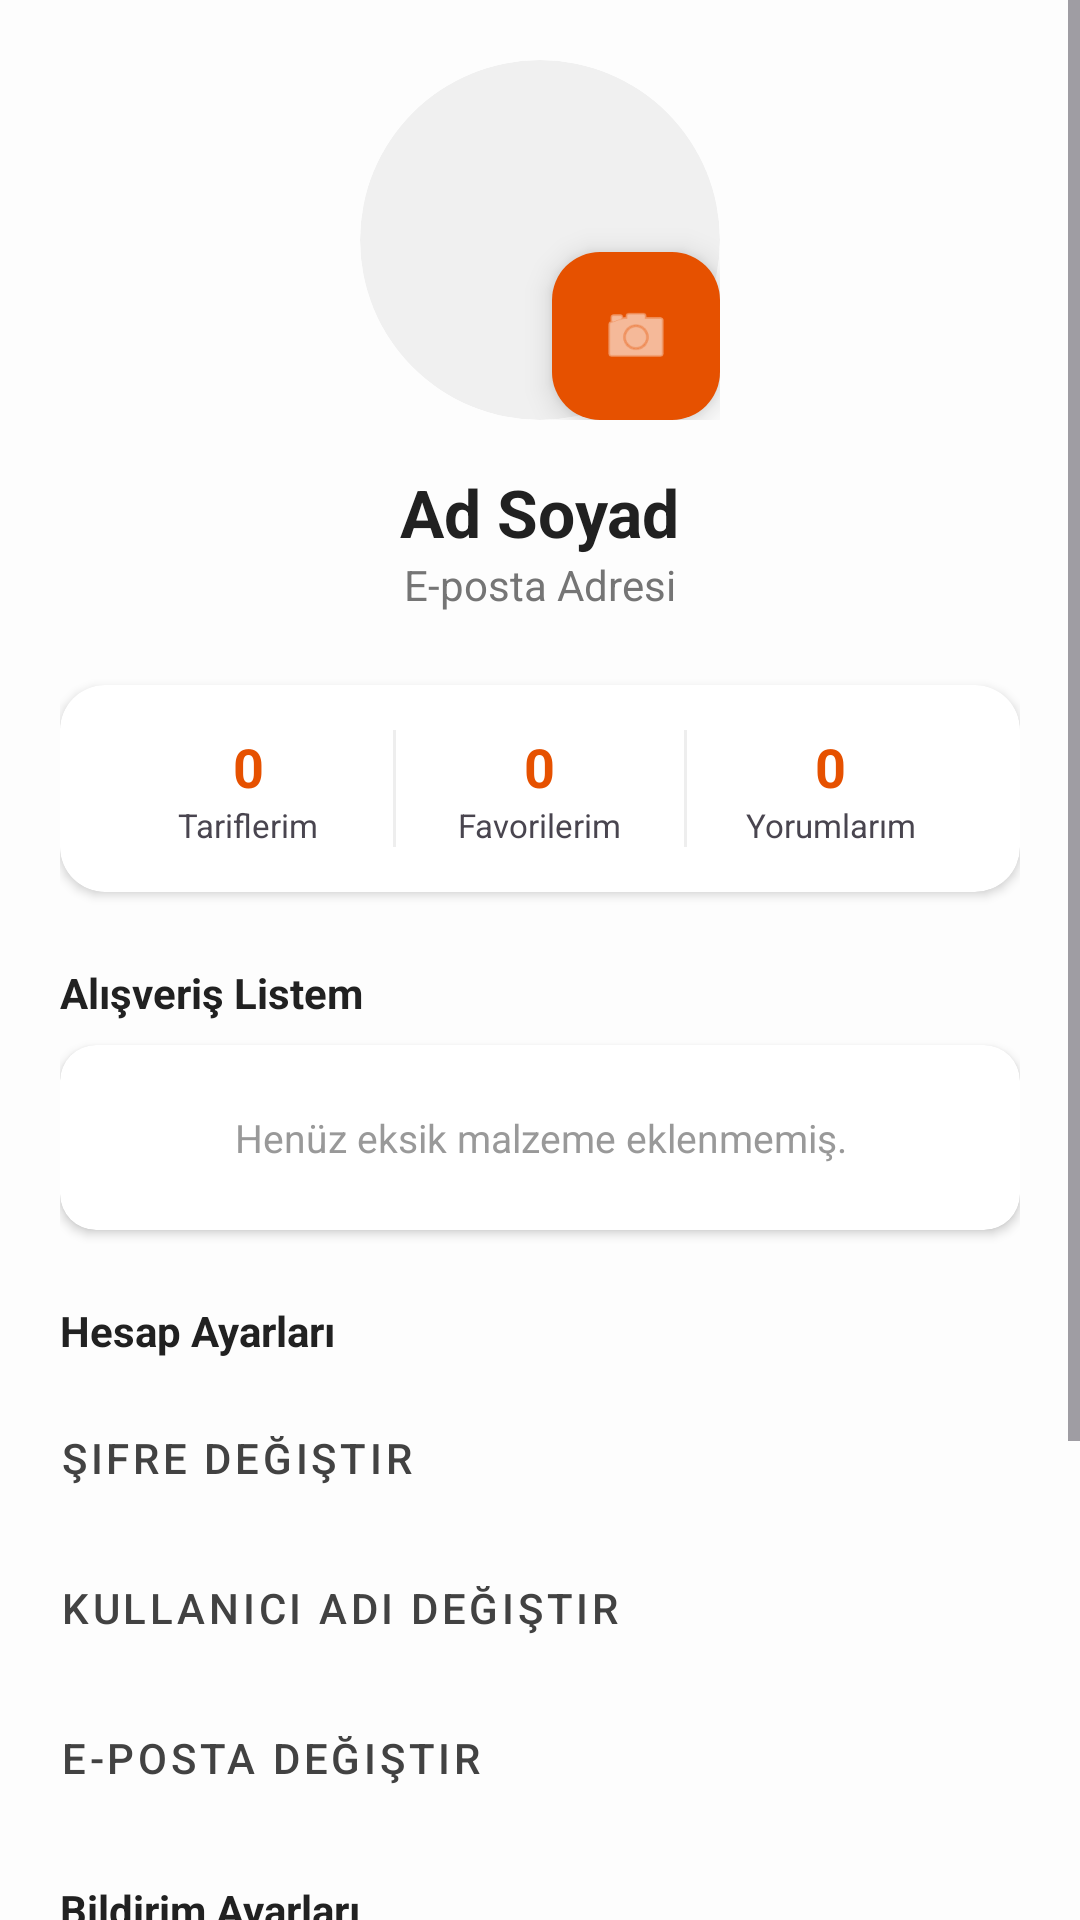

Point at icon controls on the screen. Image size 1080px×1920px, points as (x,y).
camera: (636,336)
